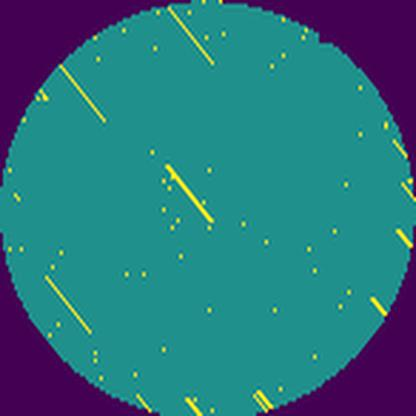Scratch: (162, 159, 216, 226), (166, 3, 219, 71), (44, 272, 96, 340), (62, 64, 111, 126)
